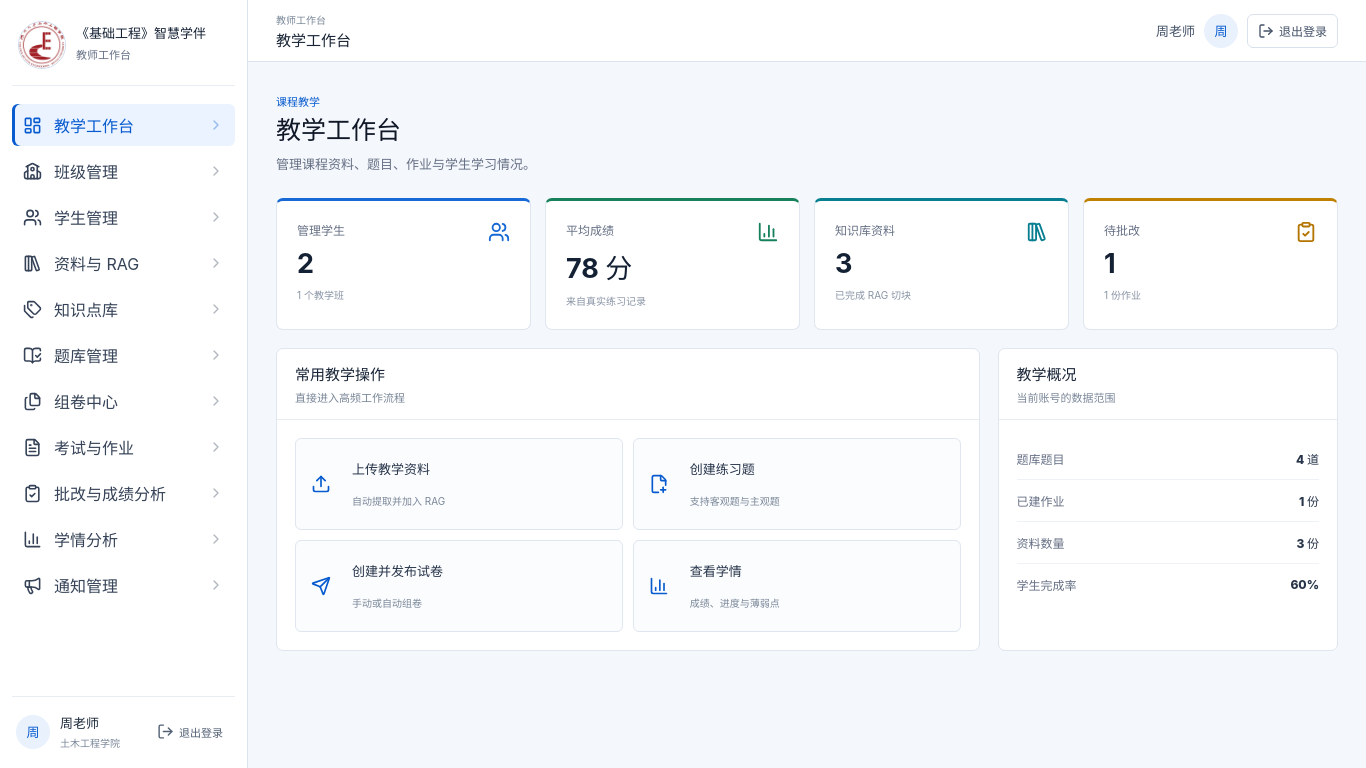
Scenario: 教师可切换到资料库并看到真实资料
expect the heading "教学工作台" is shown: met, box [276,115,401,145]
Click the button "资料与 RAG" at (124, 263), box [12,242,235,284]
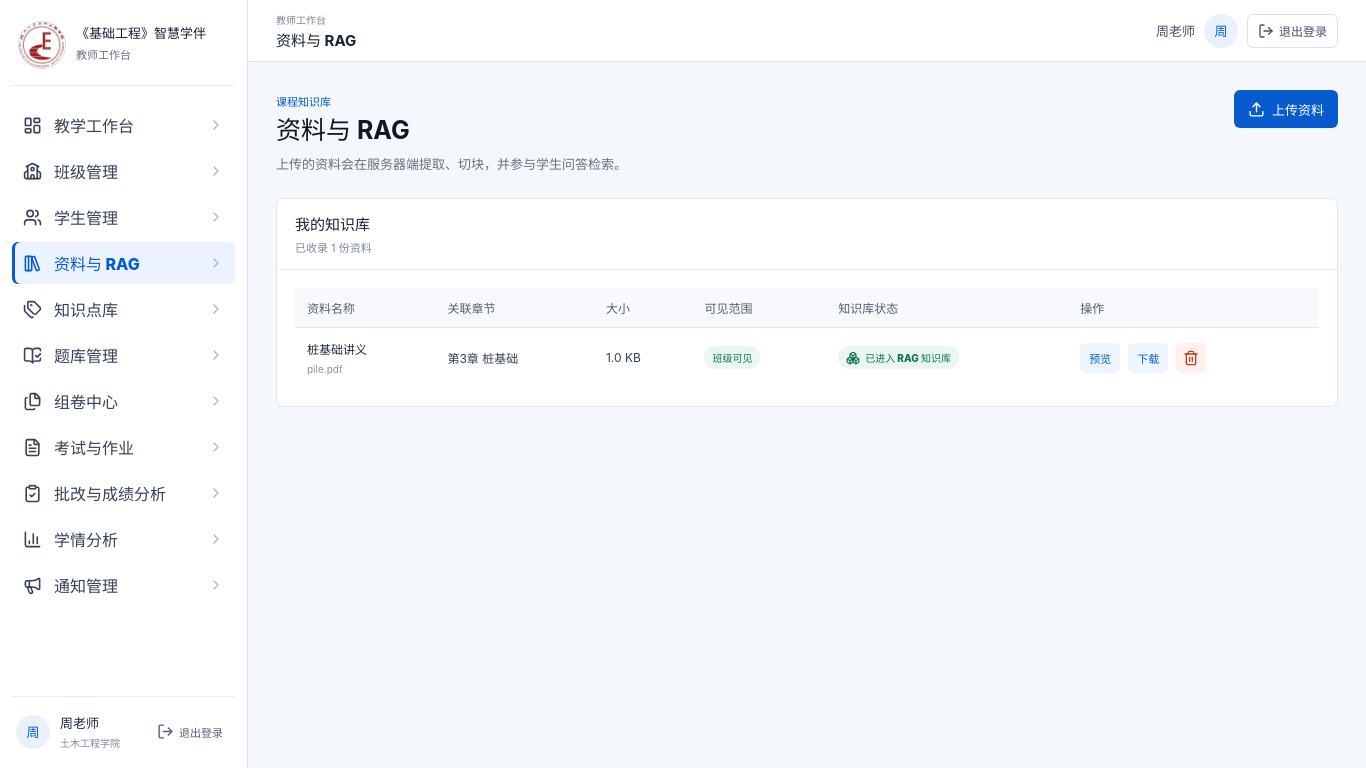
expect the text "桩基础讲义" is shown: met, box [307,342,367,357]
expect the text "已进入 RAG 知识库" is shown: met, box [838,346,959,369]
